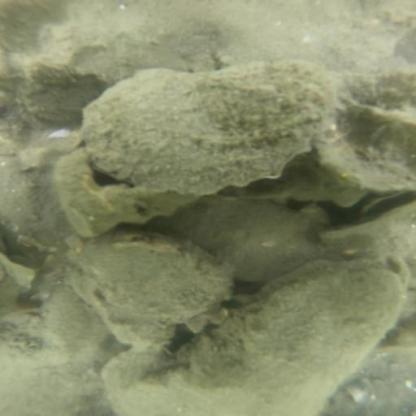Oyster- Indeterminate: (187, 249, 415, 405)
Oyster-Closed: (81, 63, 340, 194), (70, 241, 231, 343), (164, 200, 323, 282)
